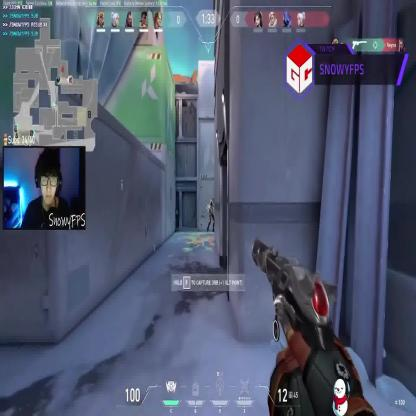enemy: (207, 198, 215, 231)
enemy_head: (209, 198, 212, 205)
